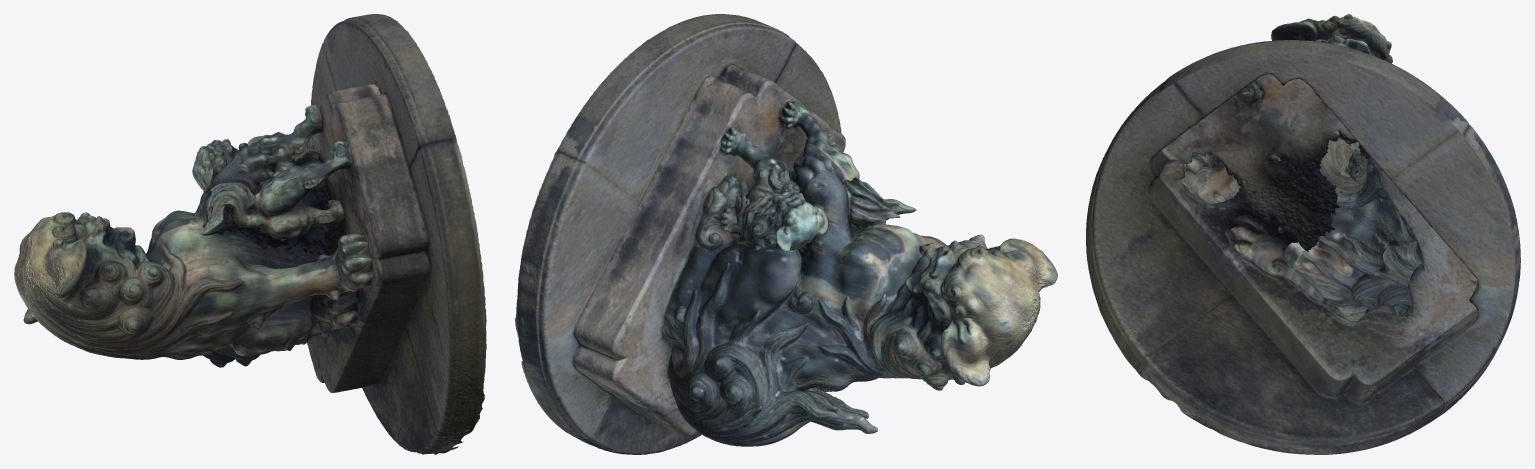
Rendered from Dragon300k.fbx.
3 views of the same model, side by side, from view 1: azimuth 30°, elevation 25°; view 2: azimuth 150°, elevation 25°; view 3: azimuth 270°, elevation 25° (orthographic). The views are drawn at different scales.
Parts seen in each view (by area): view 1: Model; view 2: Model; view 3: Model.
Part boxes in pixels (left/top/right/bottom): Model: left=14, top=14, right=486, bottom=454; Model: left=515, top=14, right=1057, bottom=454; Model: left=1086, top=14, right=1520, bottom=454.
Size of the model in its own units: 10.59 by 9.85 by 9.77.
